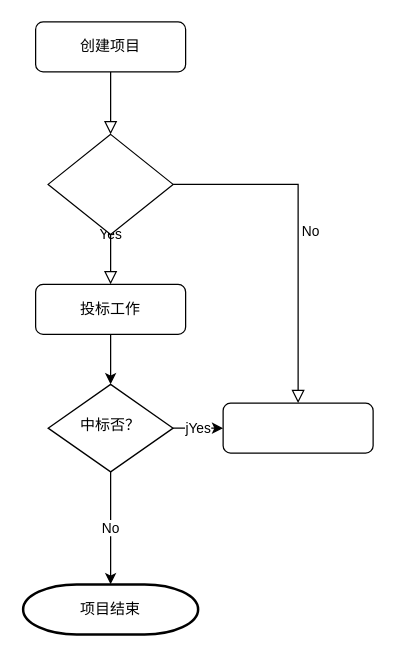
Image size: 395x658. Some labels were removed from this diagram. The centre of each missing label's shape, as x and y in pixels:
"签项目合同工作" belongs at pixel 297 427.
"需要招标否？" belongs at pixel 110 183.
